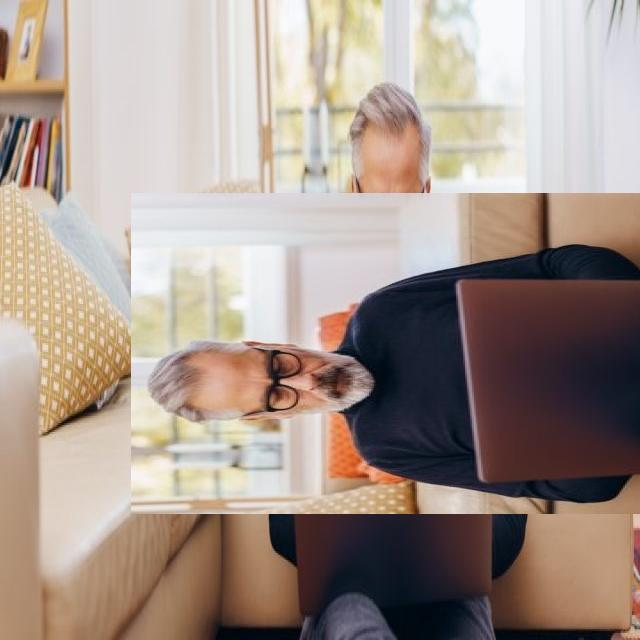NotFall: (132, 226, 640, 514)
